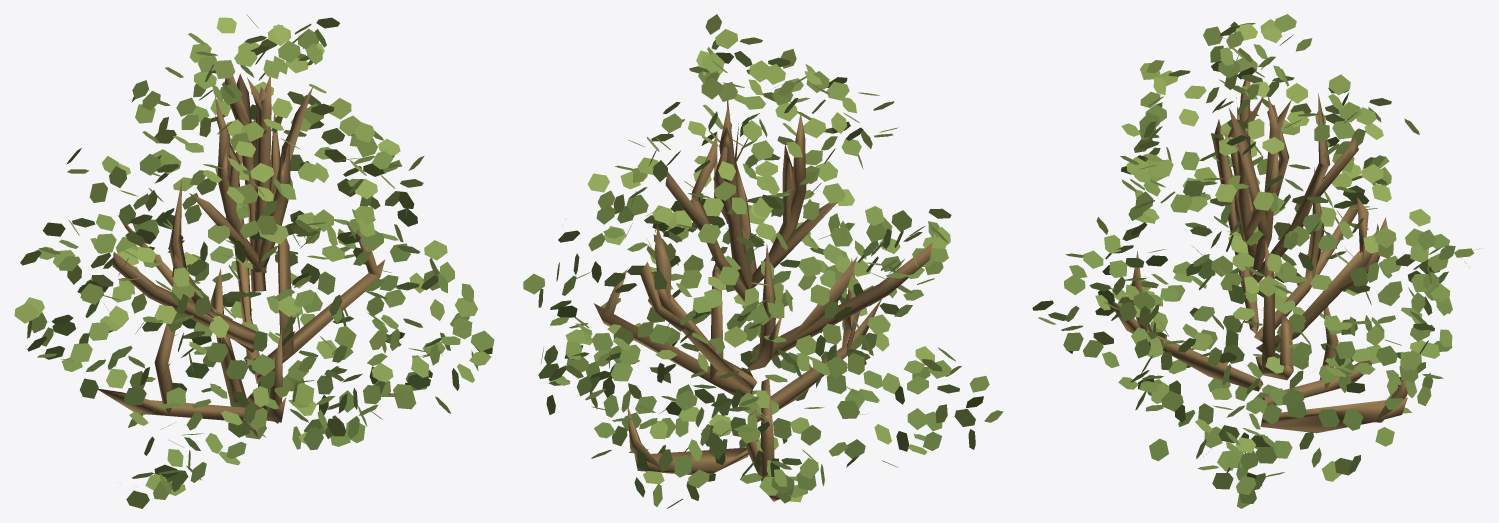
Rendered from meadow_shrub_lod0.glb.
3 views of the same model, side by side, from view 1: azimuth 30°, elevation 25°; view 2: azimuth 150°, elevation 25°; view 3: azimuth 270°, elevation 25° (orthographic). The views are drawn at different scales.
Parts seen in each view (by area): view 1: Leaves.009, Trunk.009; view 2: Leaves.009, Trunk.009; view 3: Leaves.009, Trunk.009.
Boxes of the visible parts, x1,y1,x2,y2 form: Leaves.009: [14, 14, 494, 508]; Trunk.009: [98, 73, 385, 436]; Leaves.009: [523, 14, 1003, 508]; Trunk.009: [594, 100, 932, 501]; Leaves.009: [1032, 14, 1479, 508]; Trunk.009: [1111, 80, 1407, 433].
Bounding box in the file's own units: 1.2 × 1.25 × 1.17.
